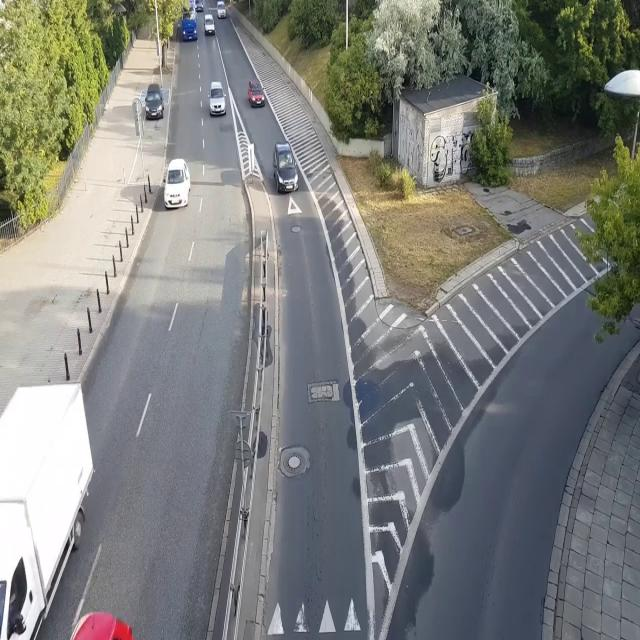car: (162, 155, 192, 212), (273, 139, 298, 194), (144, 81, 166, 122), (208, 80, 227, 118), (247, 77, 266, 108), (203, 14, 216, 37), (216, 0, 227, 18)
truck: (0, 383, 96, 640), (178, 1, 198, 43)
